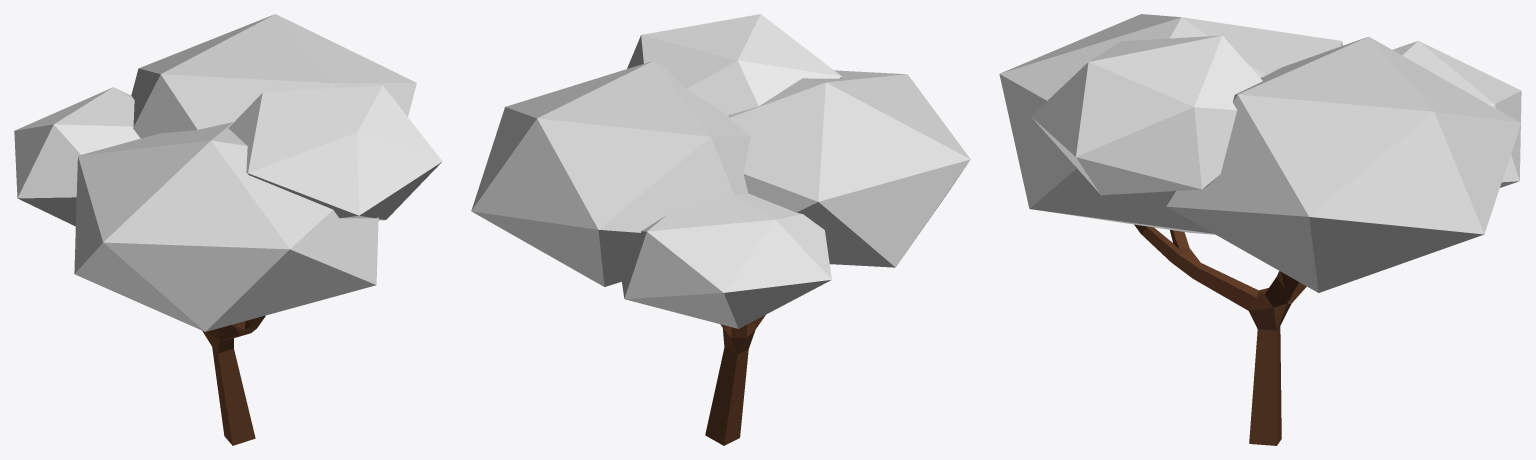
The model's file is Tree1.fbx.
3 views of the same model, side by side, from view 1: azimuth 30°, elevation 25°; view 2: azimuth 150°, elevation 25°; view 3: azimuth 270°, elevation 25° (orthographic). The views are drawn at different scales.
Parts seen in each view (by area): view 1: Cube.005; view 2: Cube.005; view 3: Cube.005.
Part boxes in pixels (left/top/right/bottom): Cube.005: left=14, top=14, right=442, bottom=445; Cube.005: left=471, top=14, right=970, bottom=445; Cube.005: left=999, top=14, right=1521, bottom=445.
Size of the model in its own units: 382 by 339 by 391.
